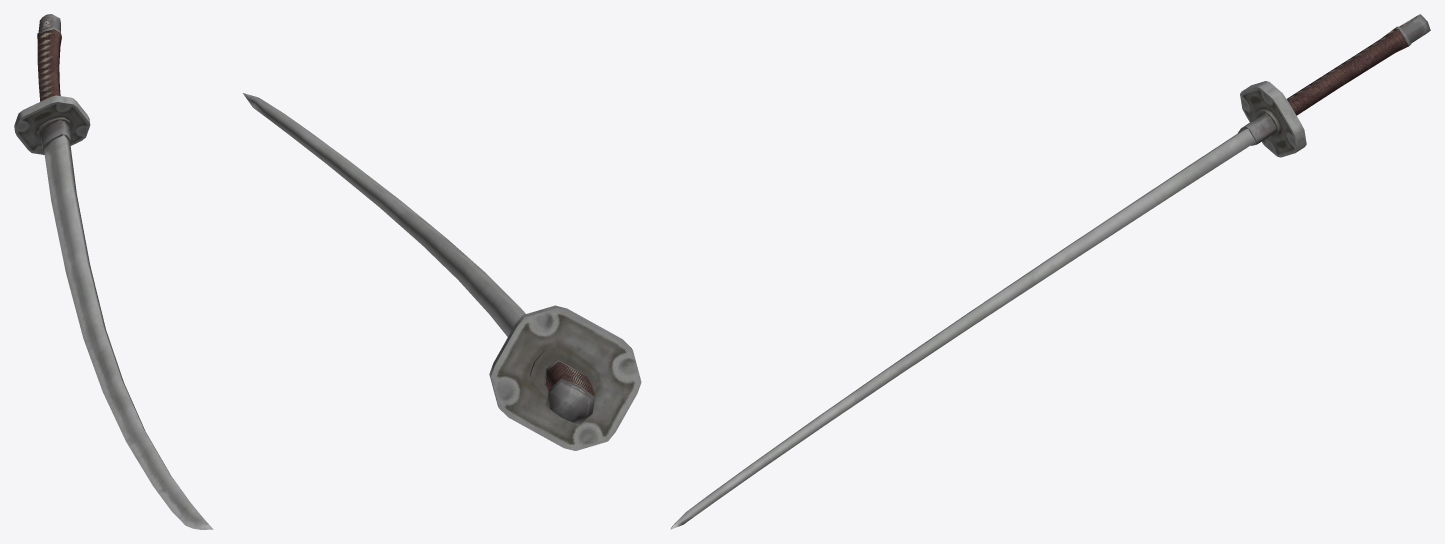
File: rider-weapon-slice-bronzeweapons.glb
The picture shows the model from 3 angles, left to right: view 1: azimuth 30°, elevation 25°; view 2: azimuth 210°, elevation 25°; view 3: azimuth 330°, elevation 25°; orthographic projection. The views are drawn at different scales.
Bounding box in the file's own units: 0.5441 × 0.4228 × 1.54.
1 material, 1 textured.
